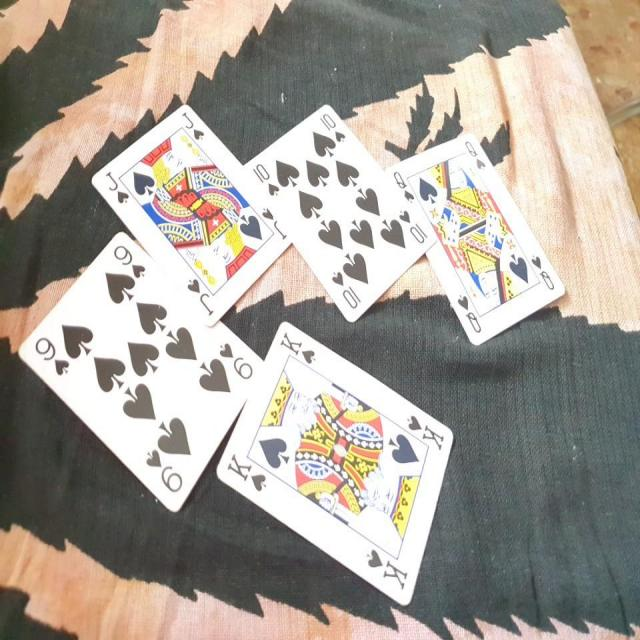10 Spades: (243, 98, 446, 333)
9 Spades: (11, 227, 270, 522)
J Spades: (89, 100, 292, 323)
K Spades: (213, 321, 457, 617)
Q Spades: (389, 123, 576, 366)
